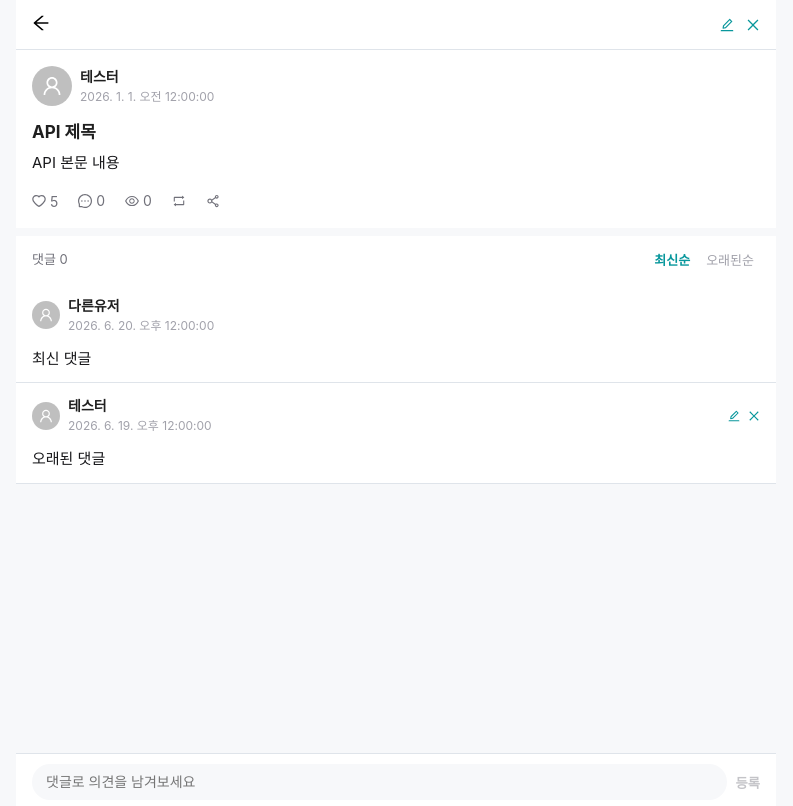
Scenario: CommunityDetailPage › 수정 버튼을 누르면 편집 모드로 전환되어 기존 내용이 채워진다
Expected: the text "오래된 댓글" is shown, [32,449,105,468]
Click the button named "댓글 수정". click: (734, 416)
box: [728,410,740,422]
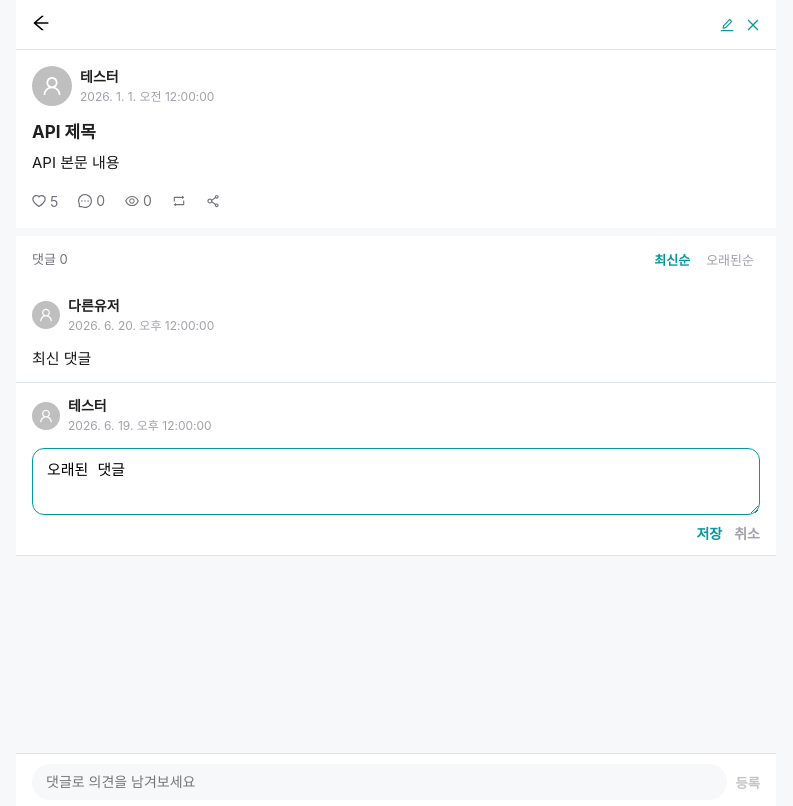
Result: the text box named "댓글 수정 입력" holds "오래된 댓글" at [32,448,760,515]
Result: the button "저장" is shown at [696,523,722,543]
Result: the button "취소" is shown at [734,523,760,543]
